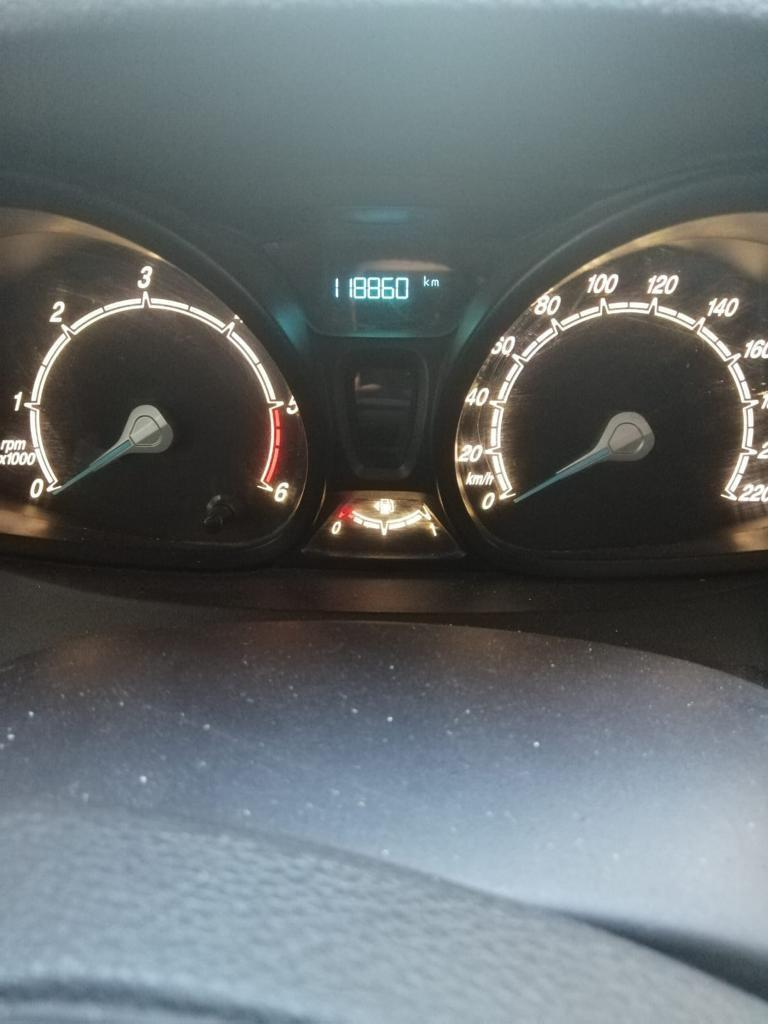0: (394, 275, 409, 300)
1: (334, 276, 341, 300), (348, 276, 353, 300)
6: (381, 276, 394, 300)
8: (367, 275, 380, 301), (354, 276, 366, 299)
X: (430, 277, 440, 287), (423, 274, 429, 287)
odometer: (316, 259, 454, 322)
